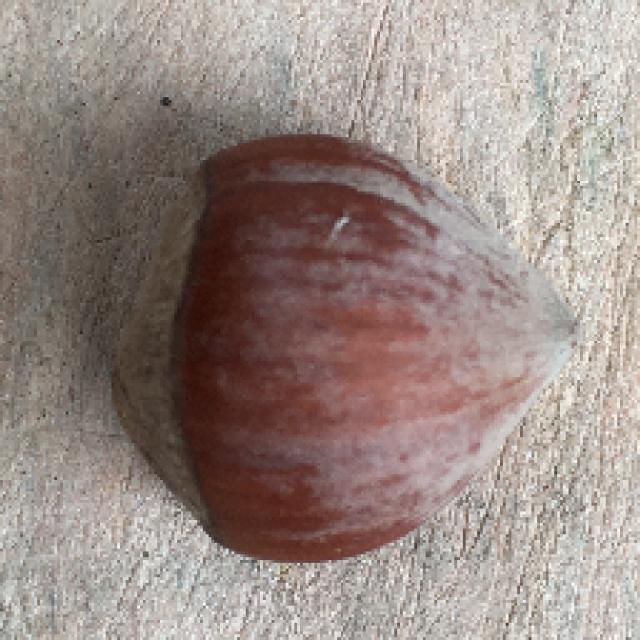qualityHazelnut: (99, 128, 582, 568)
